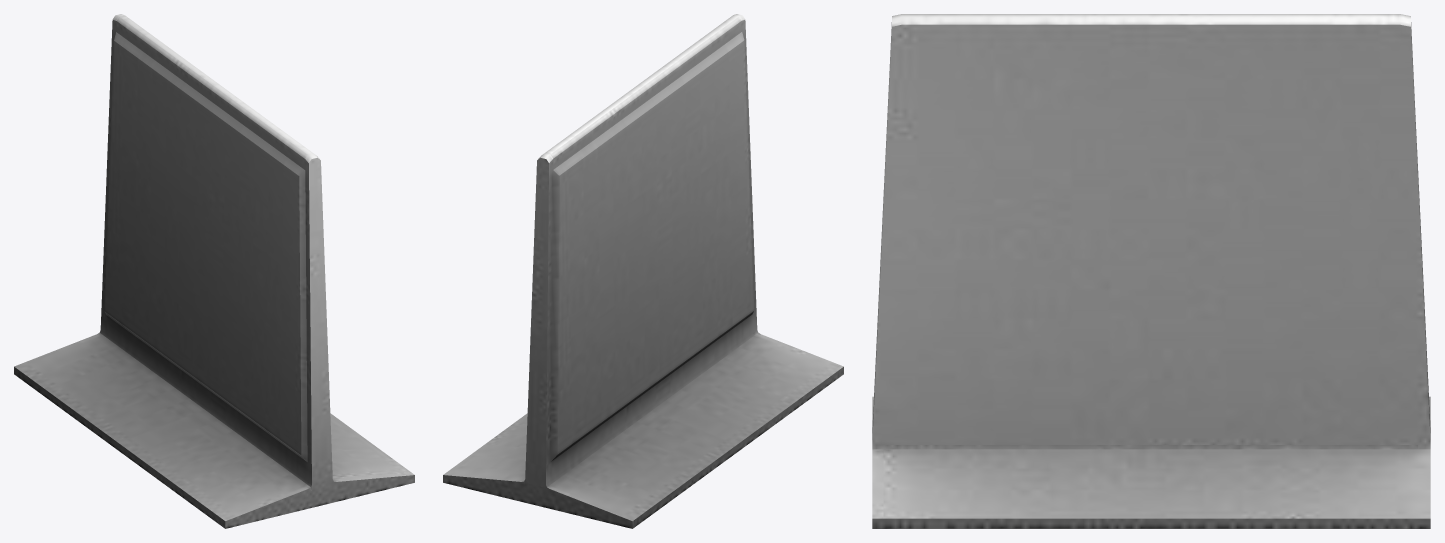
The model's file is StandingSign.fbx.
3 renders of one model, left to right at view 1: azimuth 30°, elevation 25°; view 2: azimuth 150°, elevation 25°; view 3: azimuth 270°, elevation 25°, orthographic. The views are drawn at different scales.
Parts seen in each view (by area): view 1: pCube19; view 2: pCube19; view 3: pCube19.
Boxes of the visible parts, left/top/right/bottom form: pCube19: left=14, top=14, right=414, bottom=528; pCube19: left=443, top=14, right=843, bottom=528; pCube19: left=872, top=14, right=1430, bottom=528.
Size of the model in its own units: 117 by 203 by 226.
Materials: 1 (1 with a texture image).
